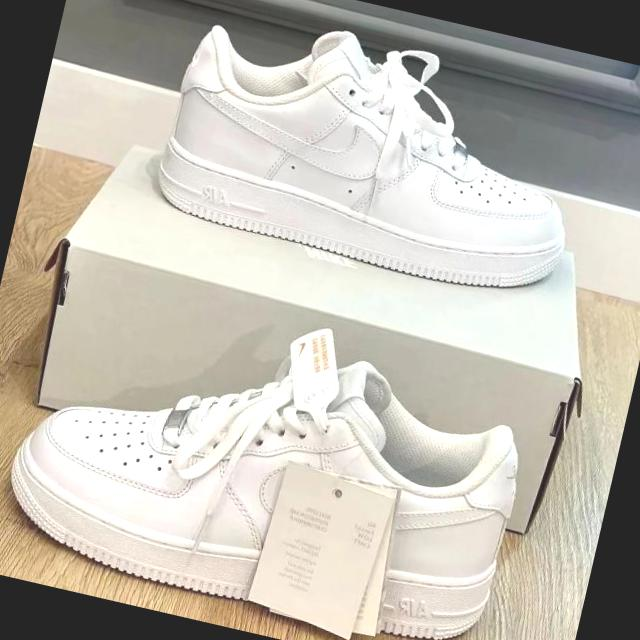nike_original_airforce: (0, 290, 541, 640), (143, 0, 603, 309)
